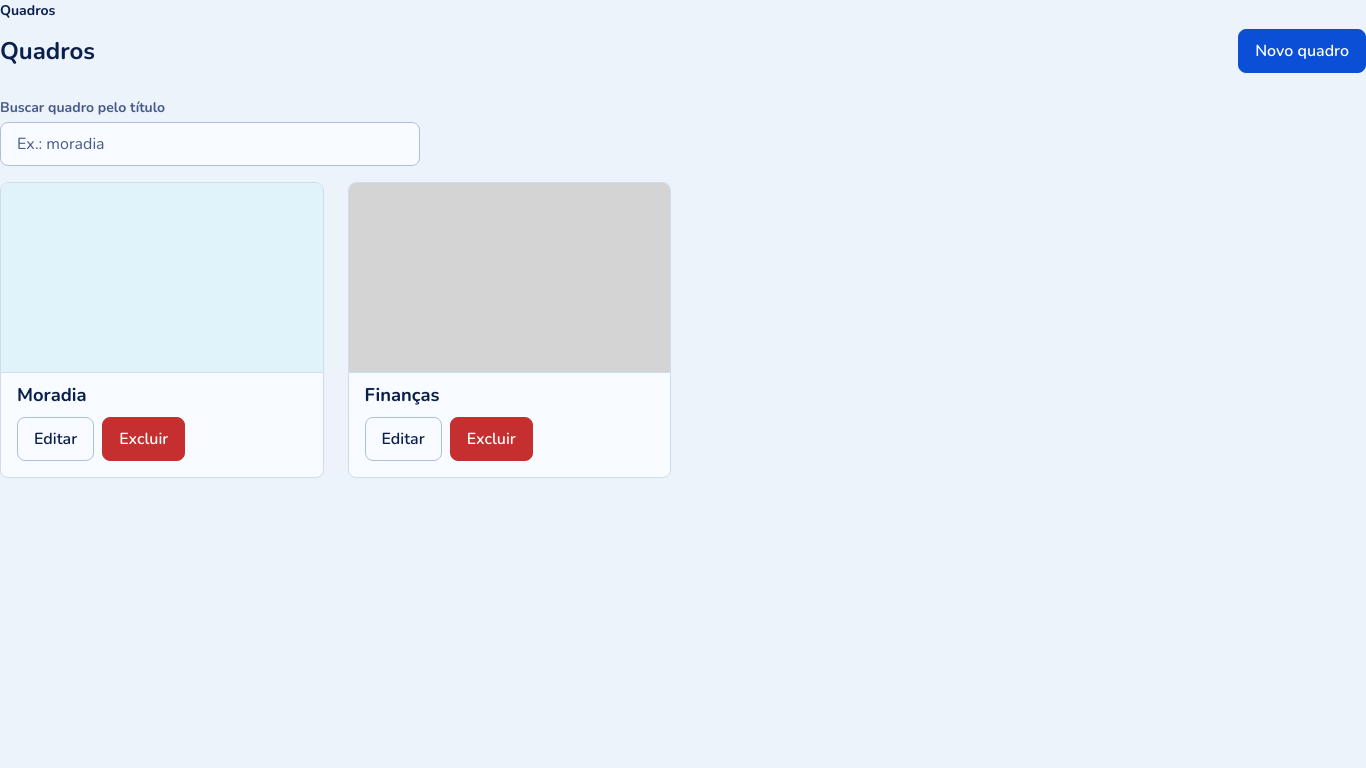
AreasPage › exclui a area com aviso de que as tarefas sao preservadas
The width and height of the screenshot is (1366, 768).
Click the button "Excluir" below "Moradia": {"x": 144, "y": 439} [102,417,185,461]
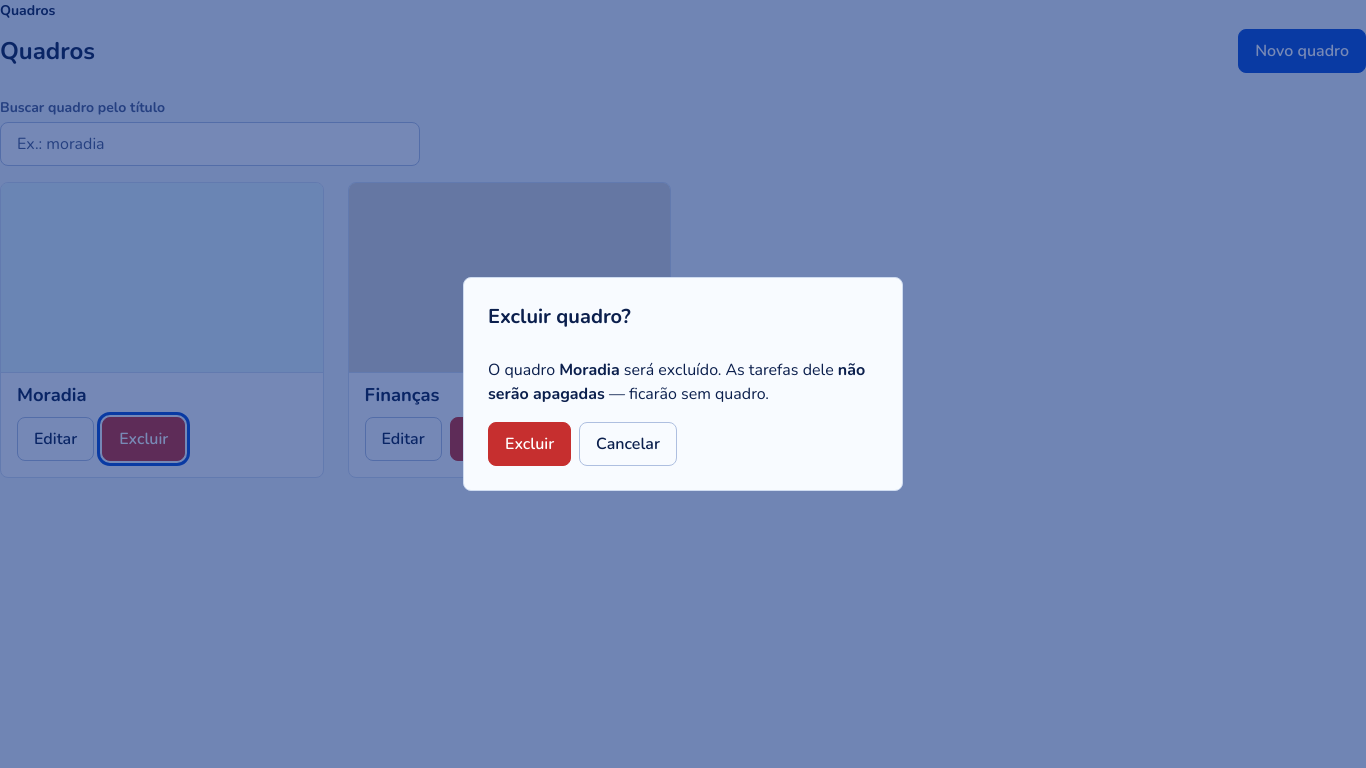
expect the text "não serão apagadas" is shown: met, box [488,359,865,405]
Click the button "Excluir" below "— ficarão sem quadro.": {"x": 530, "y": 444} [488,422,571,466]
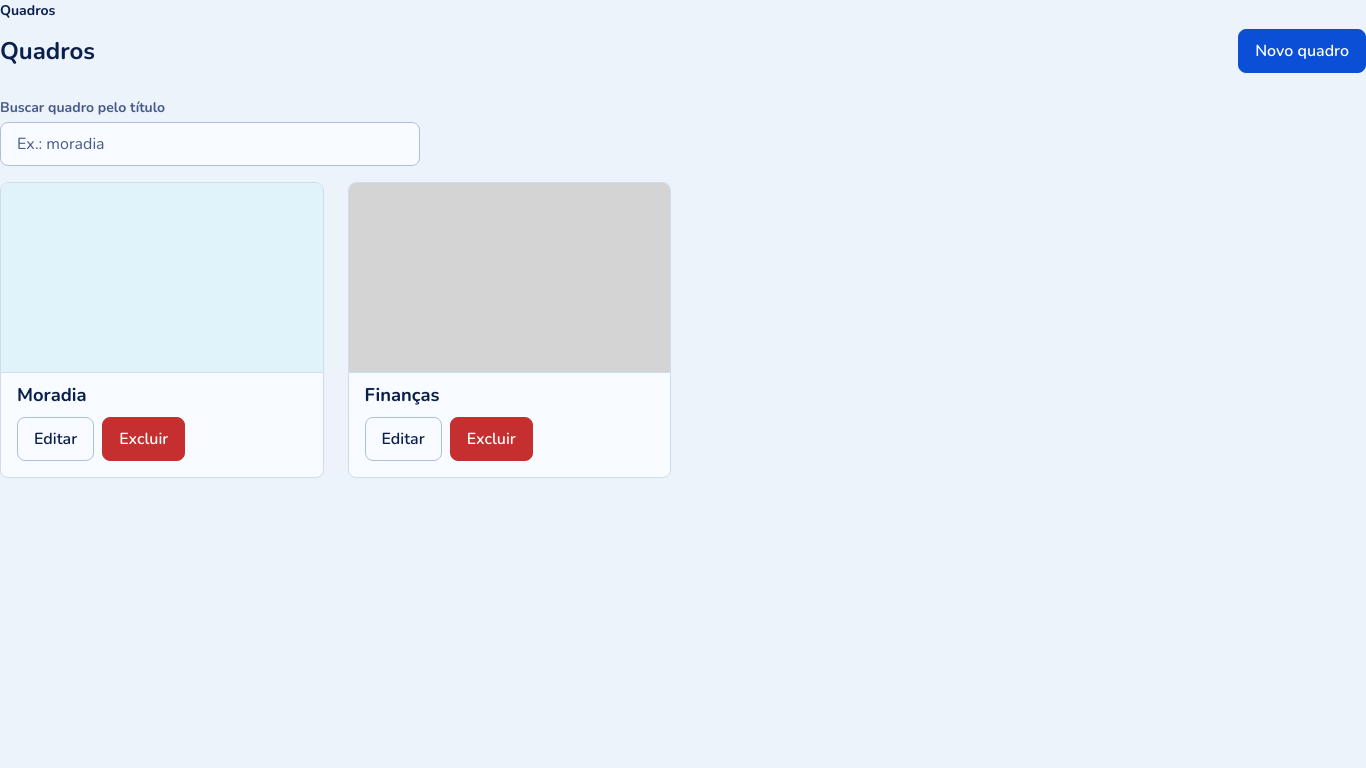
expect the dialog is gone: met
